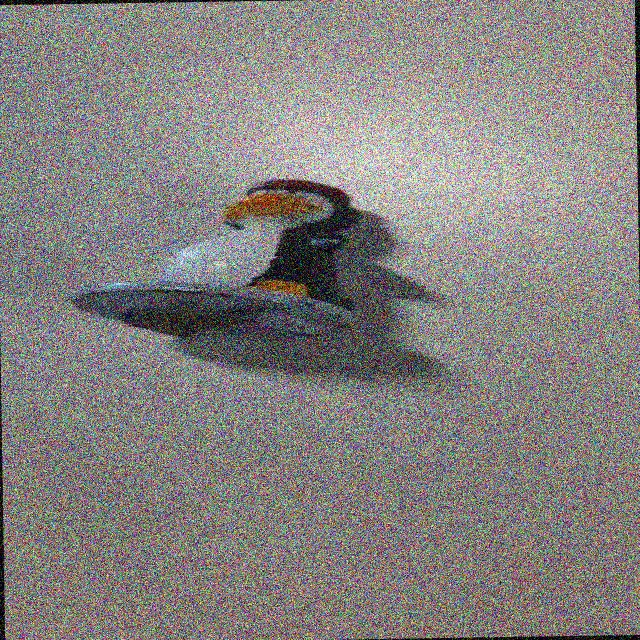Penguin: (81, 175, 411, 334)
